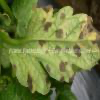Tomato mold leaf: (4, 3, 99, 95)
